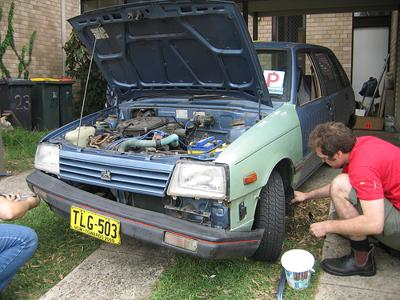person: (287, 118, 400, 279)
